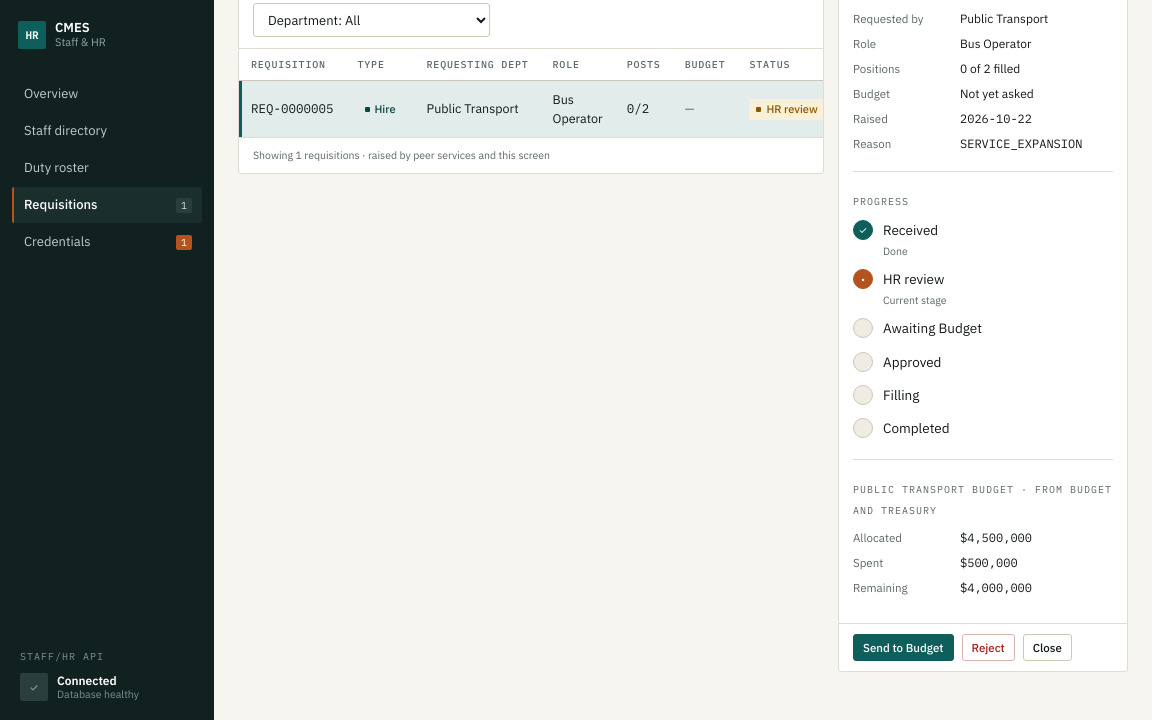
Scenario: CMES Staff & HR frontend › sends a hire in HR review to Budget for funding
The width and height of the screenshot is (1152, 720).
(page scrolled)
Expected: the text "$4,000,000" is shown, [960,580,1032,595]
Click the button "Send to Budget" at (903, 647), box [853,634,954,661]
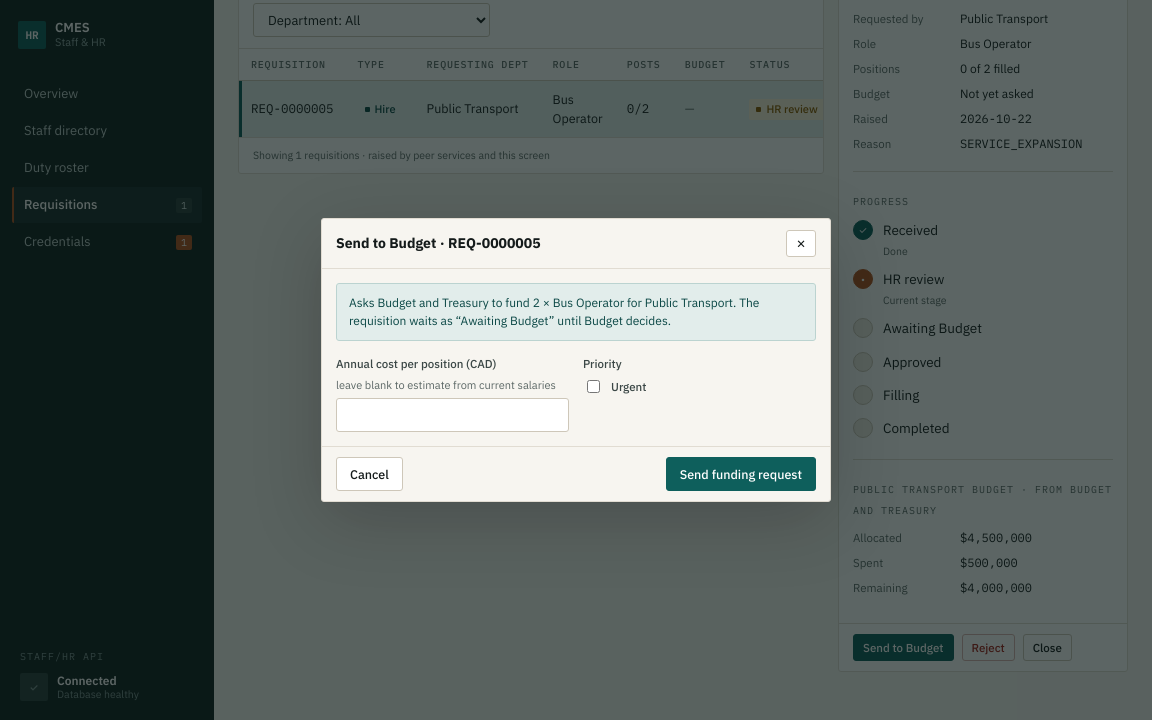
Type "60000" into the number field labelled "Annual cost per position" at (452, 415), box [336,398,569,432]
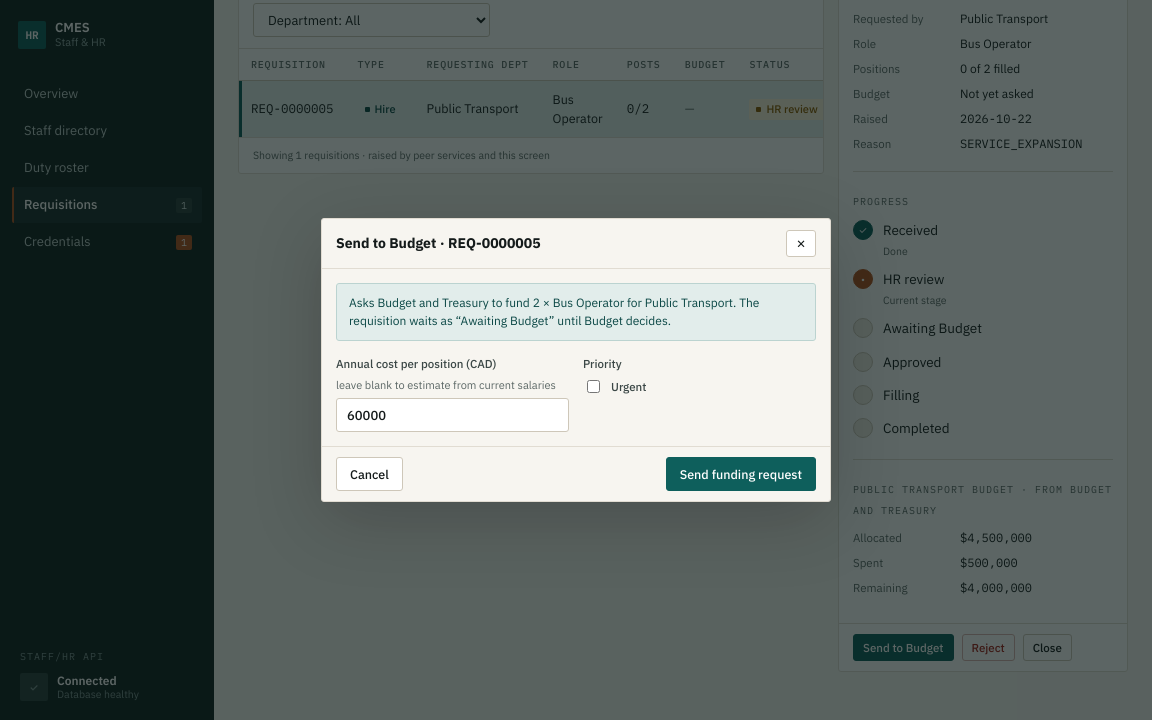
Click the checkbox labelled "Urgent" at (594, 386), box [587,380,600,393]
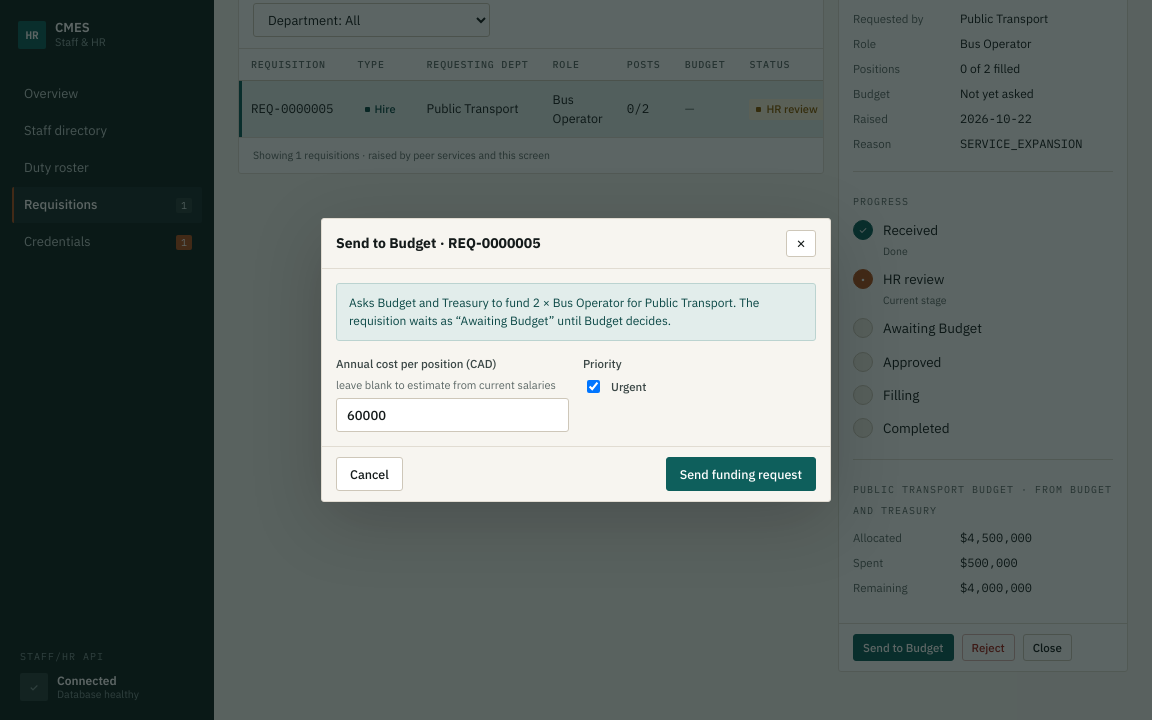
Click the button "Send funding request" at (741, 474), box [666,457,816,491]
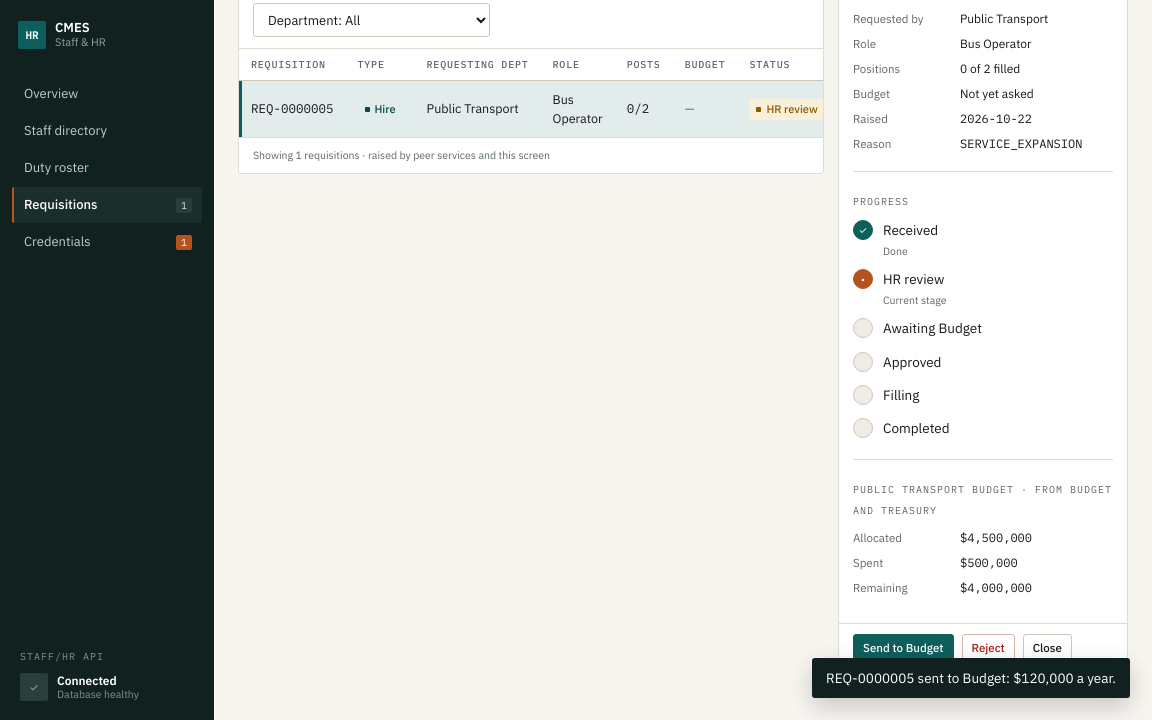
Result: the text "REQ-0000005 sent to Budget: $120,000 a year." is shown at [812,658,1130,698]
